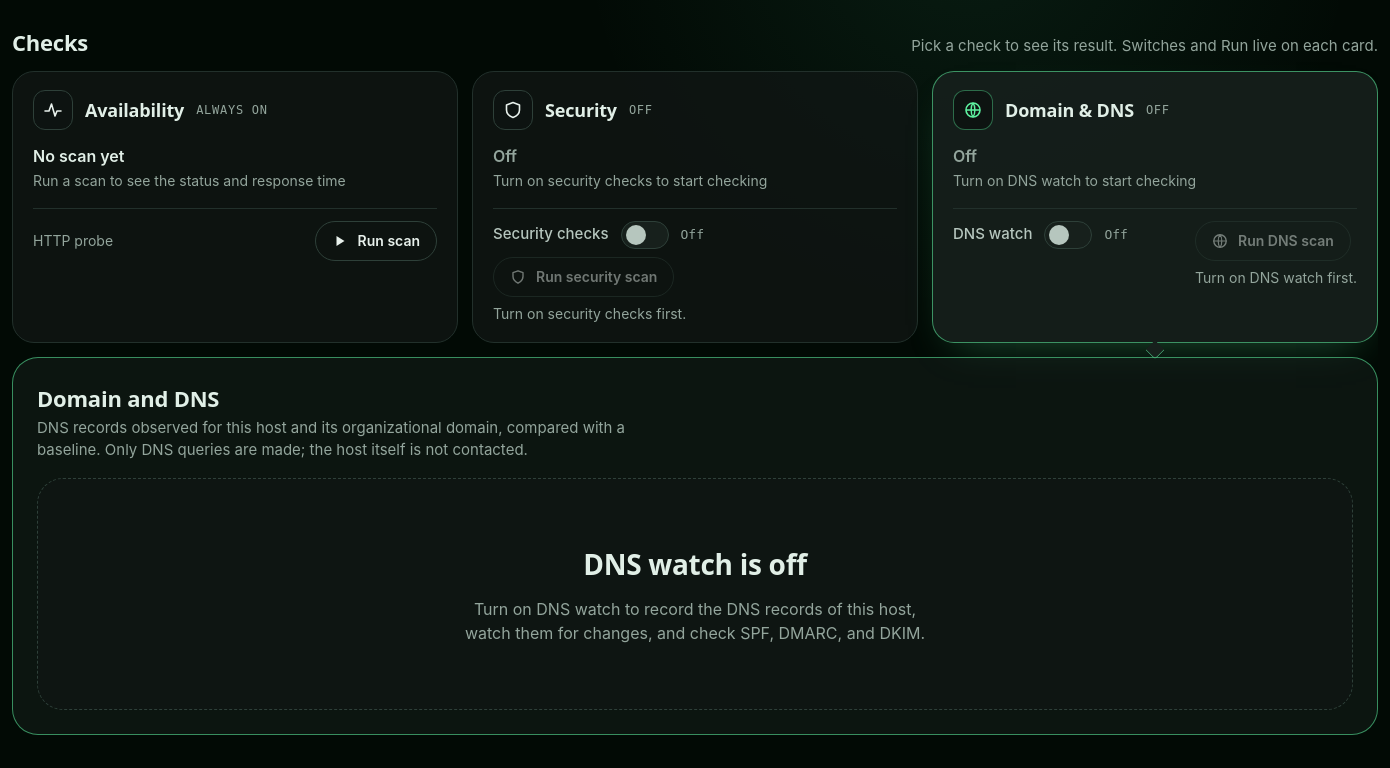
Test case: Domain and DNS section › turns DNS watch on with the switch and enables the button
What coordinates should you click on to do the following:
click the 2nd switch named "DNS watch"
I would click on:
 (1068, 235)
Its box is top-left (1044, 221), bottom-right (1092, 249).
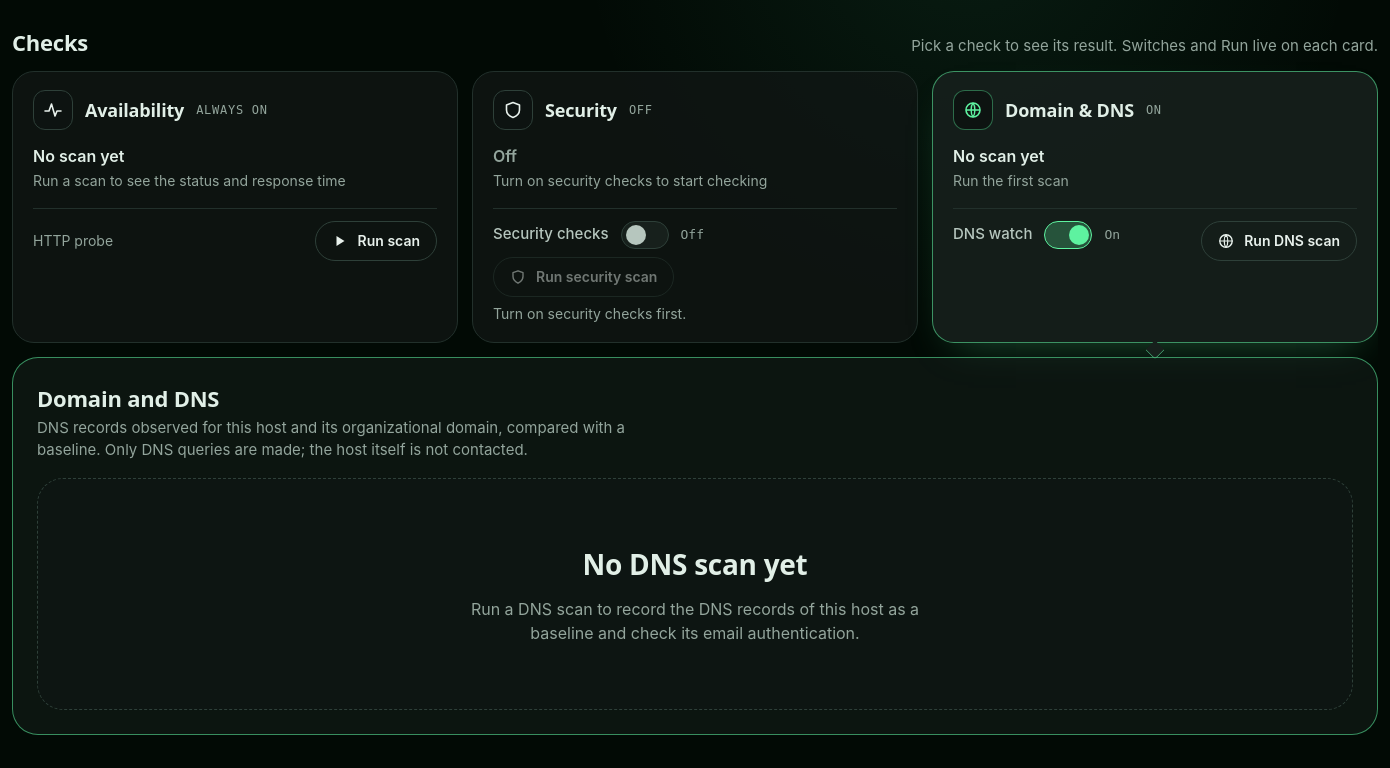
expect the switch named "DNS watch" next to "DNS watch" is checked: met, box top-left (1044, 221), bottom-right (1092, 249)
expect the button "Run DNS scan" is enabled: met, box top-left (1201, 221), bottom-right (1357, 261)
